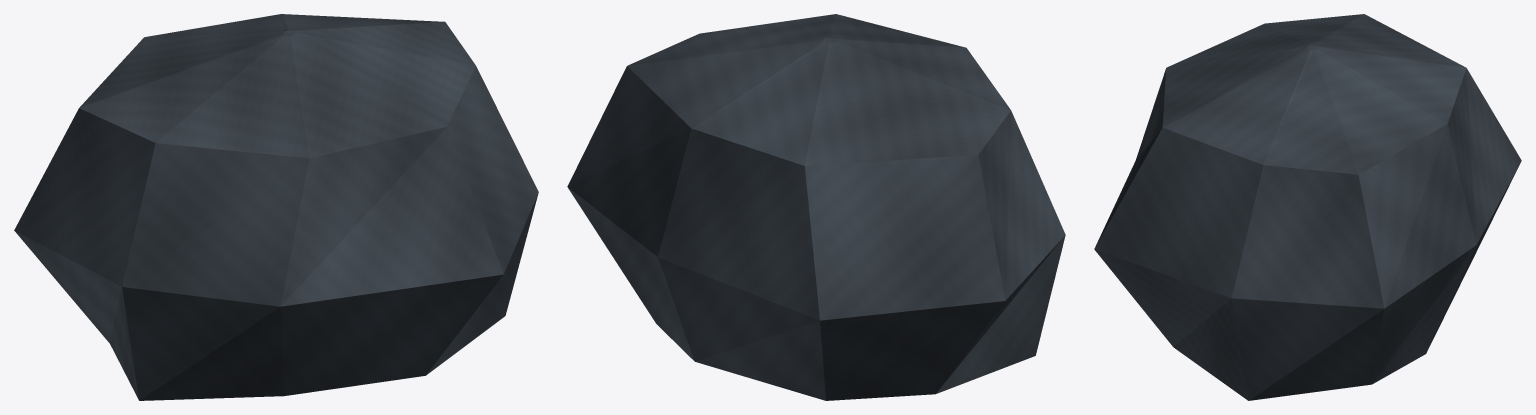
Rendered from Nature_Rock_02.glb.
The picture shows the model from 3 angles, left to right: view 1: azimuth 30°, elevation 25°; view 2: azimuth 150°, elevation 25°; view 3: azimuth 270°, elevation 25°; orthographic projection. The views are drawn at different scales.
Visible parts, largest first — view 1: Nature_Rock_02; view 2: Nature_Rock_02; view 3: Nature_Rock_02.
Boxes of the visible parts, x1,y1,x2,y2 form: Nature_Rock_02: (14,14,538,400); Nature_Rock_02: (567,14,1065,400); Nature_Rock_02: (1094,14,1521,400).
Bounding box in the file's own units: 1.03 × 0.7 × 0.9197.
Materials: 1 (1 with a texture image).
